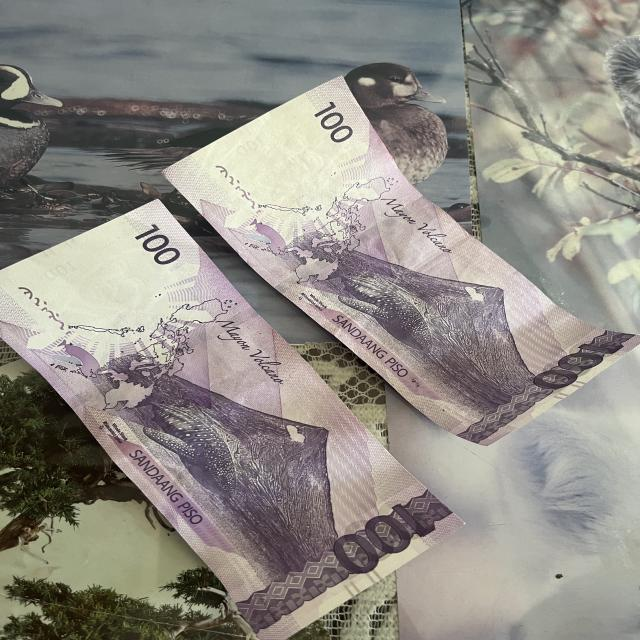100_whale: (127, 383, 249, 505), (310, 259, 449, 364)
100_whale_watermark: (237, 207, 305, 272), (43, 333, 117, 391)
watermark: (214, 117, 352, 218), (27, 238, 162, 338)
